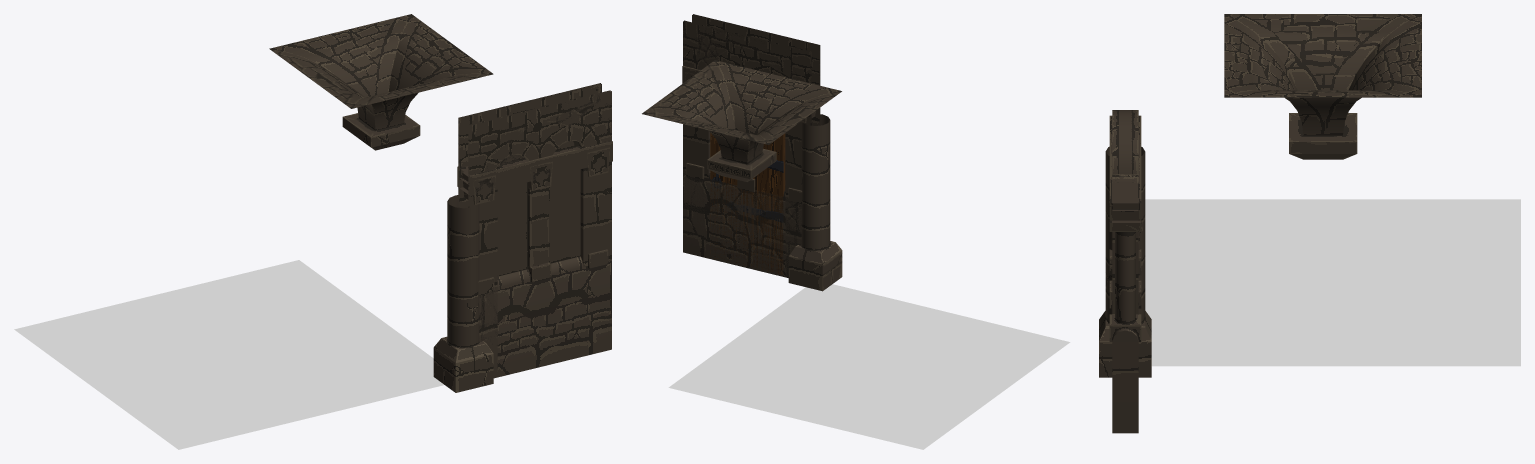
Rendered from InteriorModules.glb.
The picture shows the model from 3 angles, left to right: view 1: azimuth 30°, elevation 25°; view 2: azimuth 150°, elevation 25°; view 3: azimuth 270°, elevation 25°; orthographic projection. The views are drawn at different scales.
Parts seen in each view (by area): view 1: Floor, Window, Roof, DoorFrame, Wall, Column; view 2: Floor, Window, Roof, Column, DoorFrame, Door, Wall; view 3: Floor, Roof, DoorFrame, Window, Column.
Boxes of the visible parts, x1,y1,x2,y2 form: Floor: (14,260,443,449); Window: (458,83,611,377); Roof: (269,14,493,150); DoorFrame: (457,83,612,378); Wall: (459,84,610,276); Column: (433,195,493,392); Floor: (668,284,1070,449); Window: (683,14,820,277); Roof: (642,60,841,181); Column: (788,114,842,291); DoorFrame: (682,14,820,277); Door: (710,133,785,274); Wall: (684,15,819,125); Floor: (1145,199,1520,366); Roof: (1224,14,1421,159); DoorFrame: (1109,110,1141,433); Window: (1109,174,1141,341); Column: (1099,146,1151,377).
Size of the model in its own units: 4.5 by 2.6 by 3.2.
2 materials, 1 textured.
